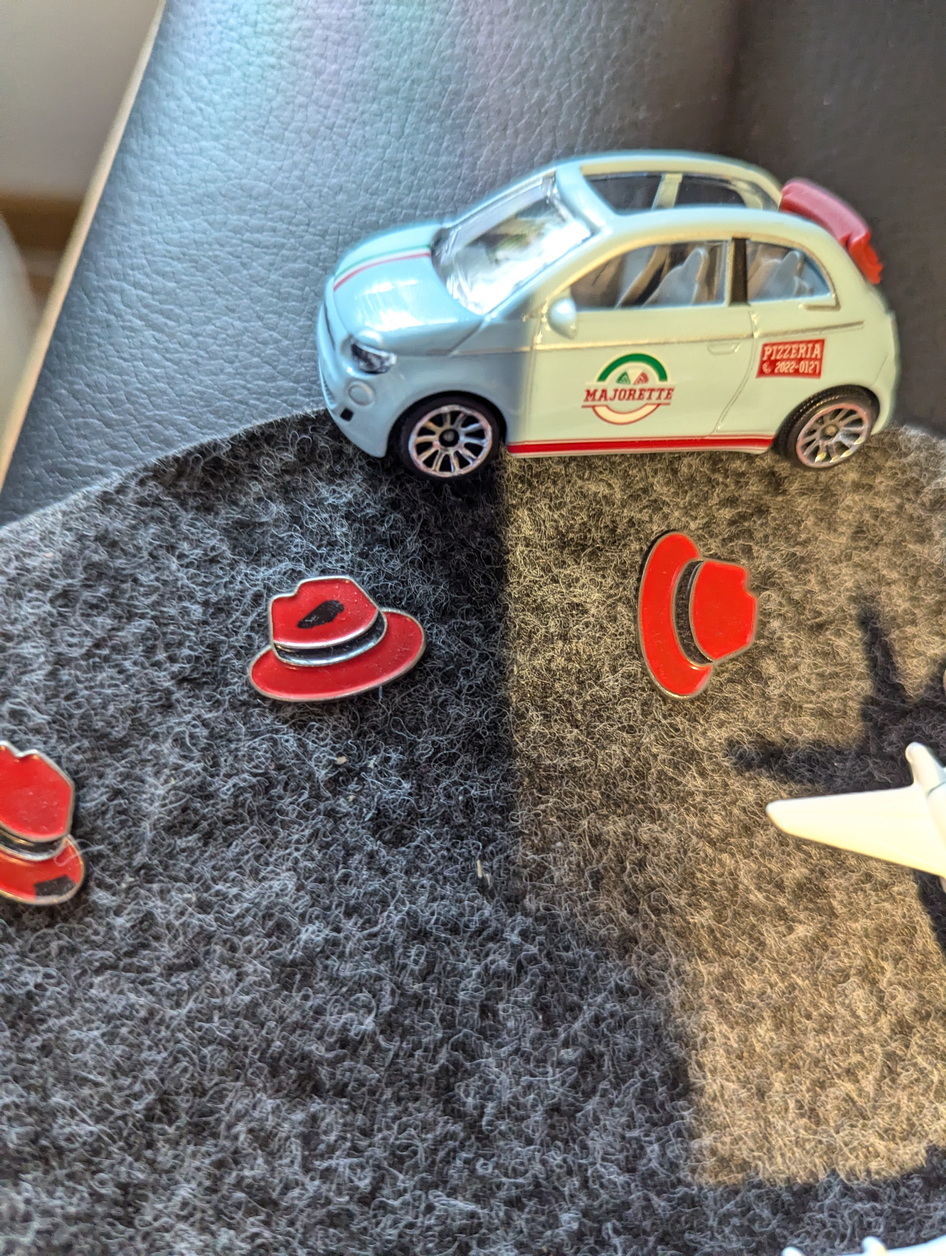Car: (272, 144, 946, 511)
Red-Hat: (221, 529, 438, 715), (628, 506, 783, 726), (0, 715, 122, 971)
Scratch: (279, 587, 371, 644), (21, 869, 108, 916)
